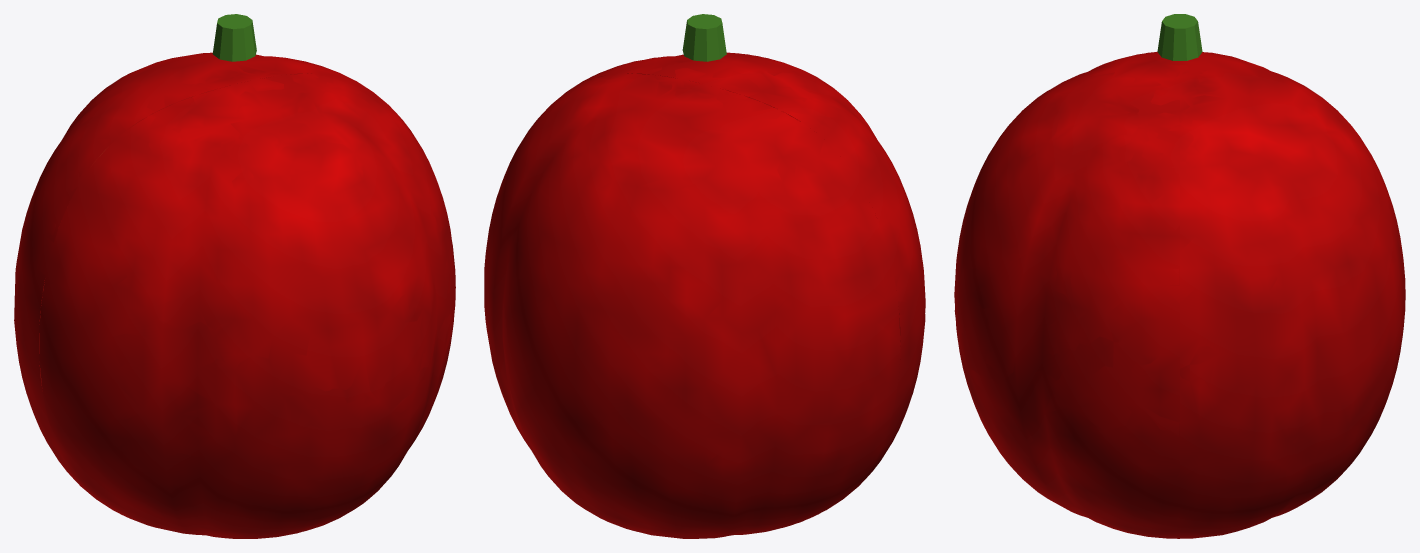
File: poivron-rouge.glb
3 renders of one model, left to right at view 1: azimuth 30°, elevation 25°; view 2: azimuth 150°, elevation 25°; view 3: azimuth 270°, elevation 25°, orthographic.
Parts seen in each view (by area): view 1: entier_peau, moitie_B_peau, moitie_A_peau, entier_extra0; view 2: moitie_A_peau, entier_peau, moitie_B_peau, entier_extra0; view 3: entier_peau, moitie_B_peau, moitie_A_peau, entier_extra0.
Boxes of the visible parts, x1,y1,x2,y2 form: entier_peau: [16, 52, 455, 538]; moitie_B_peau: [39, 73, 455, 538]; moitie_A_peau: [14, 52, 353, 482]; entier_extra0: [212, 14, 256, 61]; moitie_A_peau: [484, 73, 900, 538]; entier_peau: [484, 53, 925, 538]; moitie_B_peau: [577, 52, 925, 473]; entier_extra0: [682, 14, 726, 61]; entier_peau: [954, 52, 1405, 538]; moitie_B_peau: [954, 52, 1179, 538]; moitie_A_peau: [1180, 52, 1405, 538]; entier_extra0: [1157, 14, 1202, 60].
Size of the model in its own units: 1.6 by 1.89 by 1.6.
